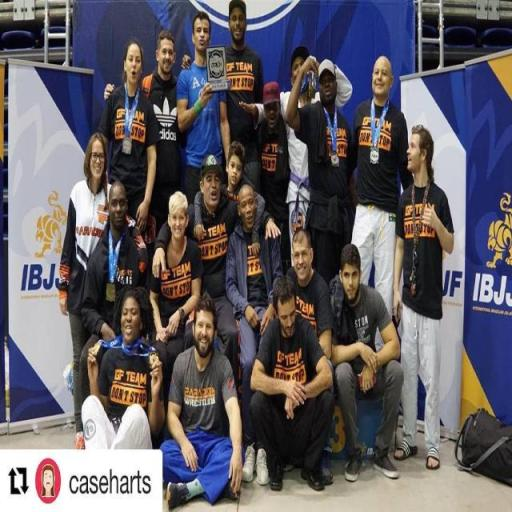Adidas: (152, 94, 180, 144)
